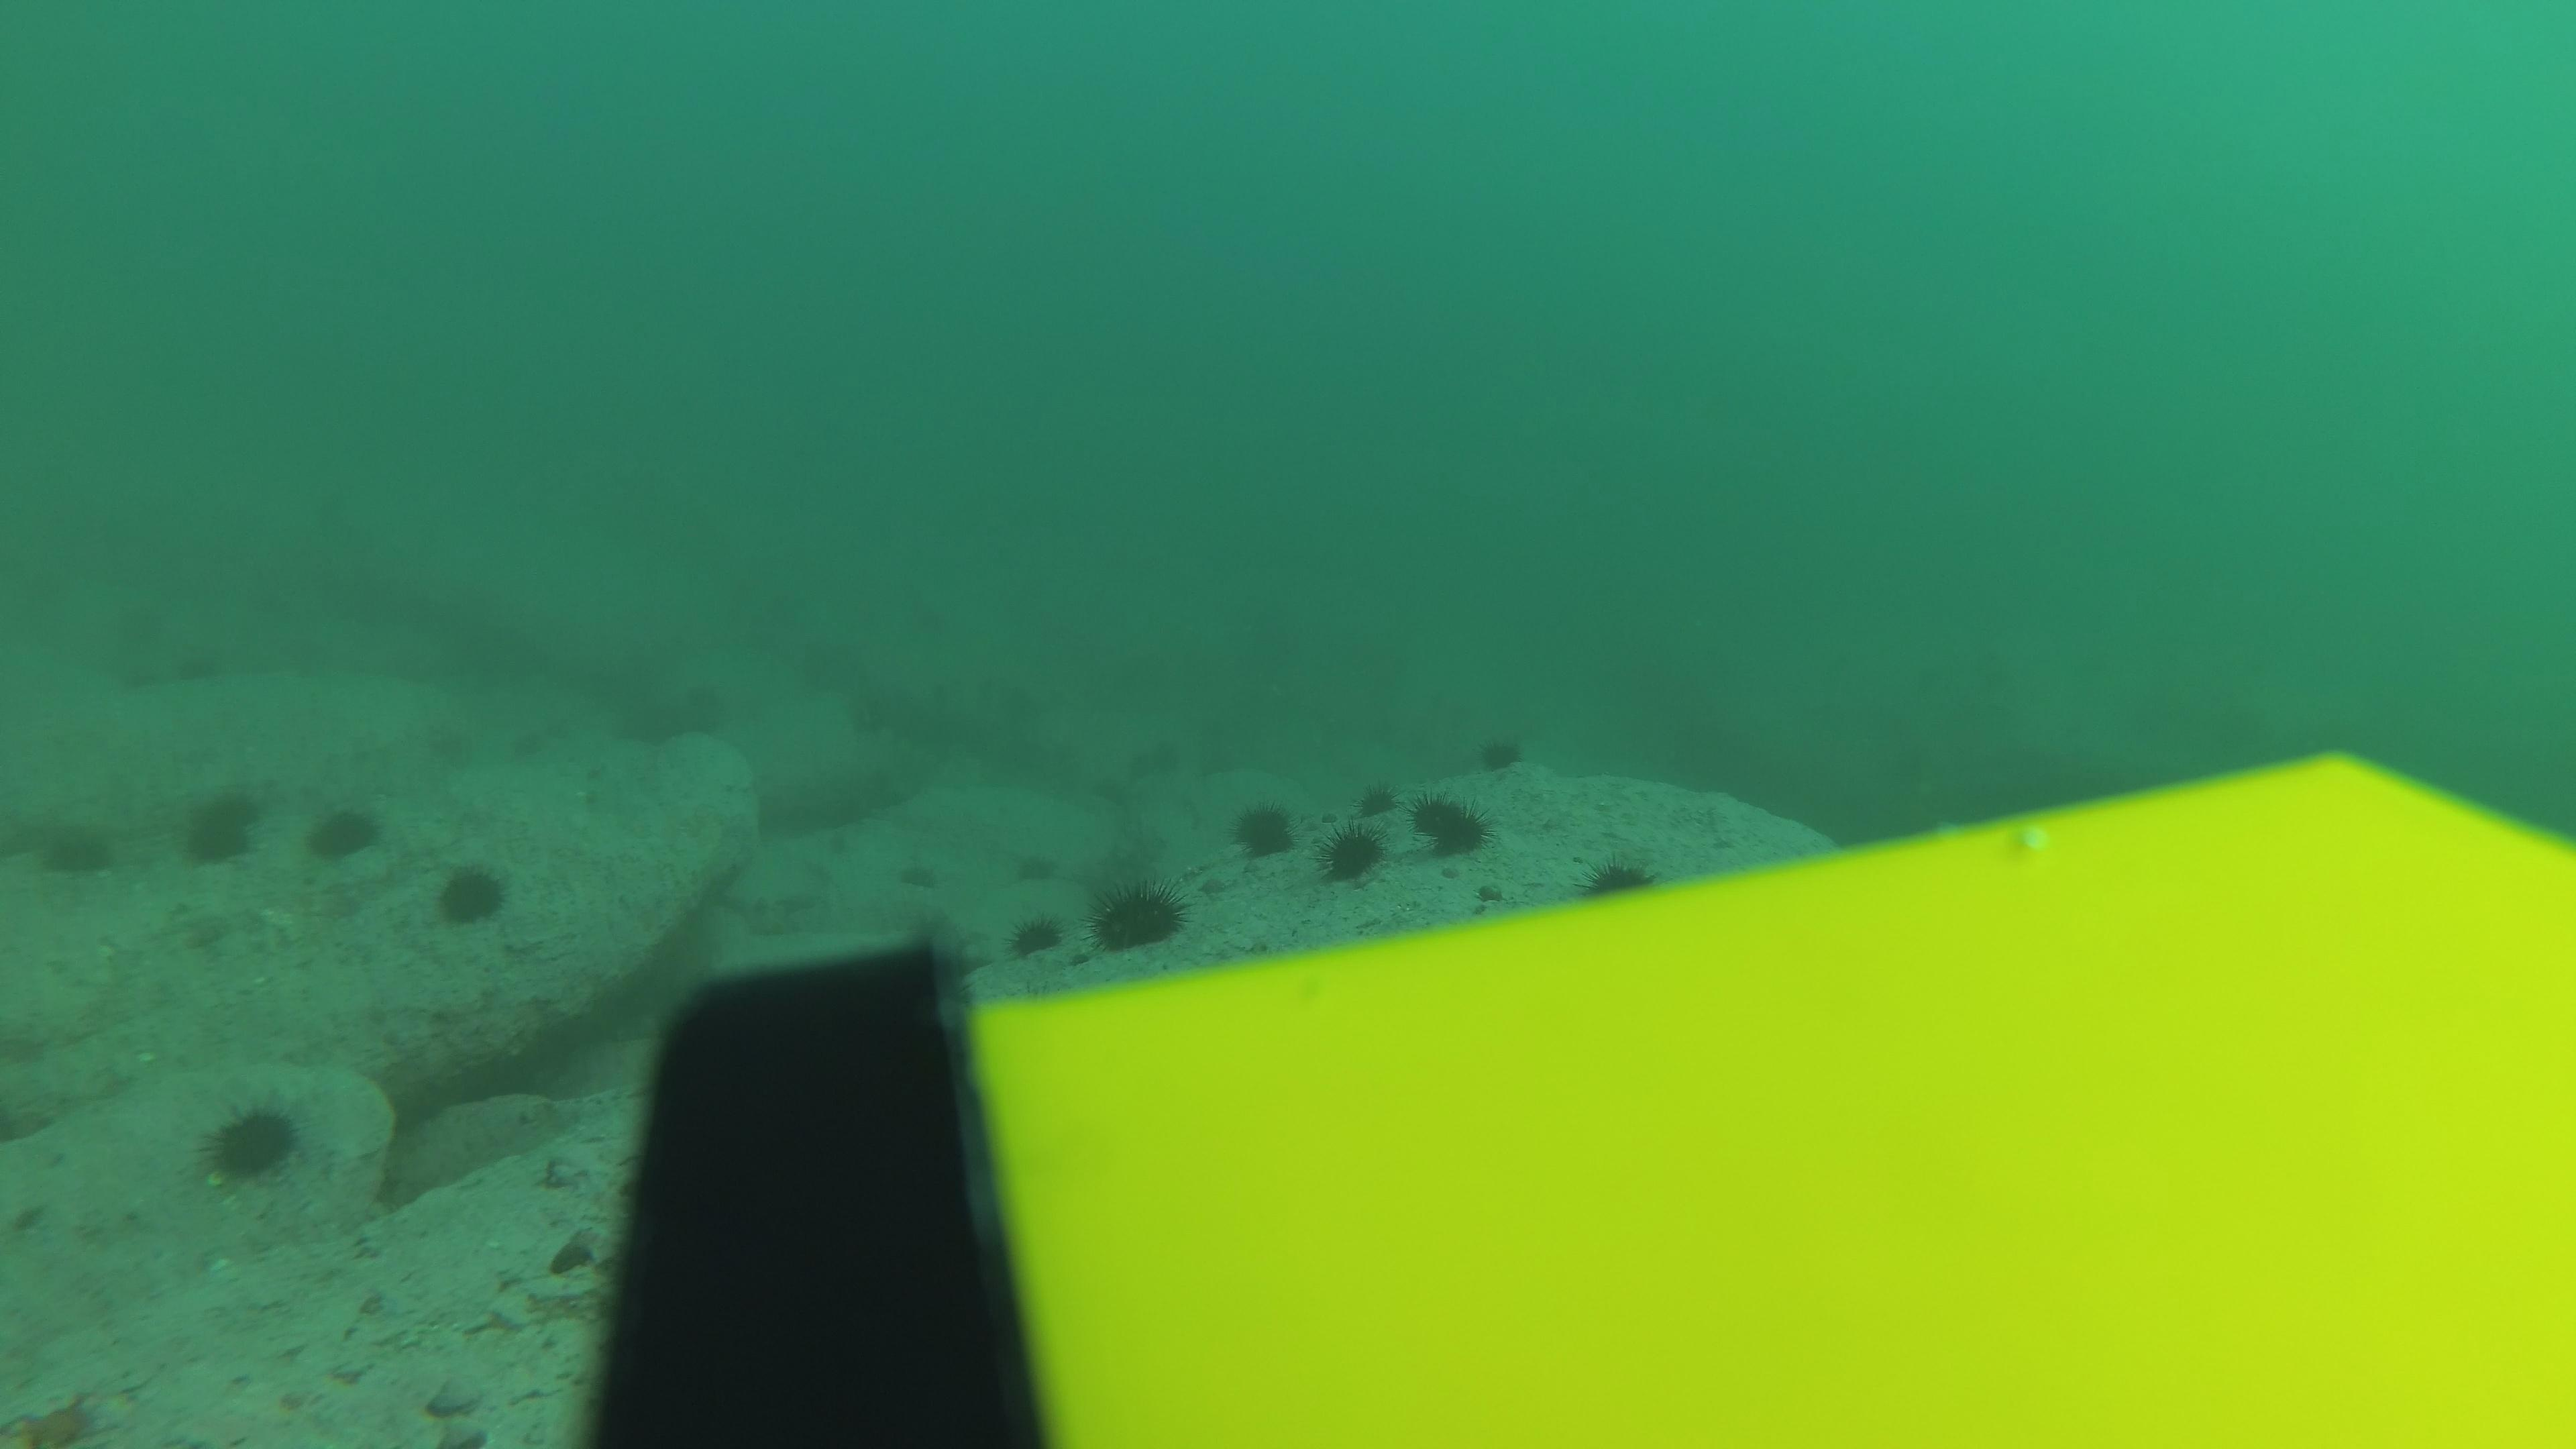echinus: (200, 1097, 304, 1185), (1093, 876, 1185, 952), (34, 814, 115, 879), (433, 858, 510, 927), (1430, 803, 1502, 870), (1405, 777, 1477, 844), (308, 798, 380, 863), (1582, 849, 1660, 901), (1322, 821, 1384, 885), (1231, 798, 1293, 860), (180, 816, 251, 865), (203, 777, 274, 826), (678, 672, 732, 724), (982, 678, 1037, 729), (1008, 909, 1062, 961), (893, 849, 947, 901), (1017, 840, 1070, 892), (1152, 732, 1207, 782), (1352, 777, 1405, 823), (1477, 731, 1525, 775), (172, 653, 223, 692), (495, 727, 547, 766), (104, 658, 156, 695)
starfish: (7, 1387, 106, 1444)
